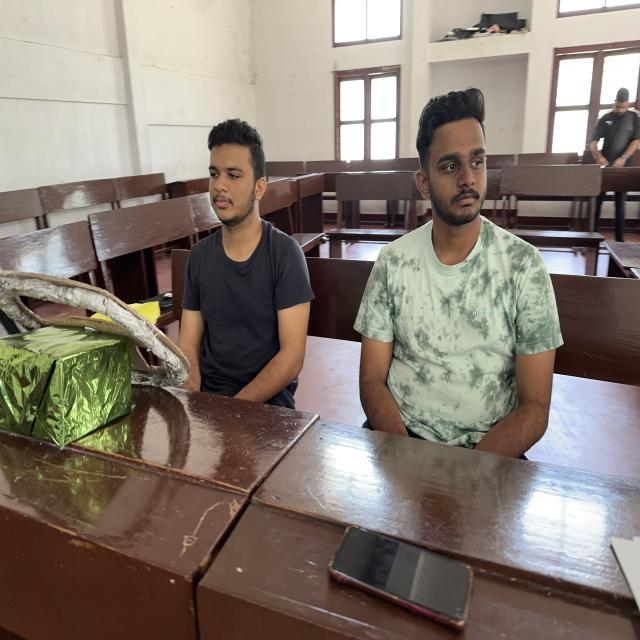Helmet: (354, 227, 571, 492), (175, 225, 320, 428)
